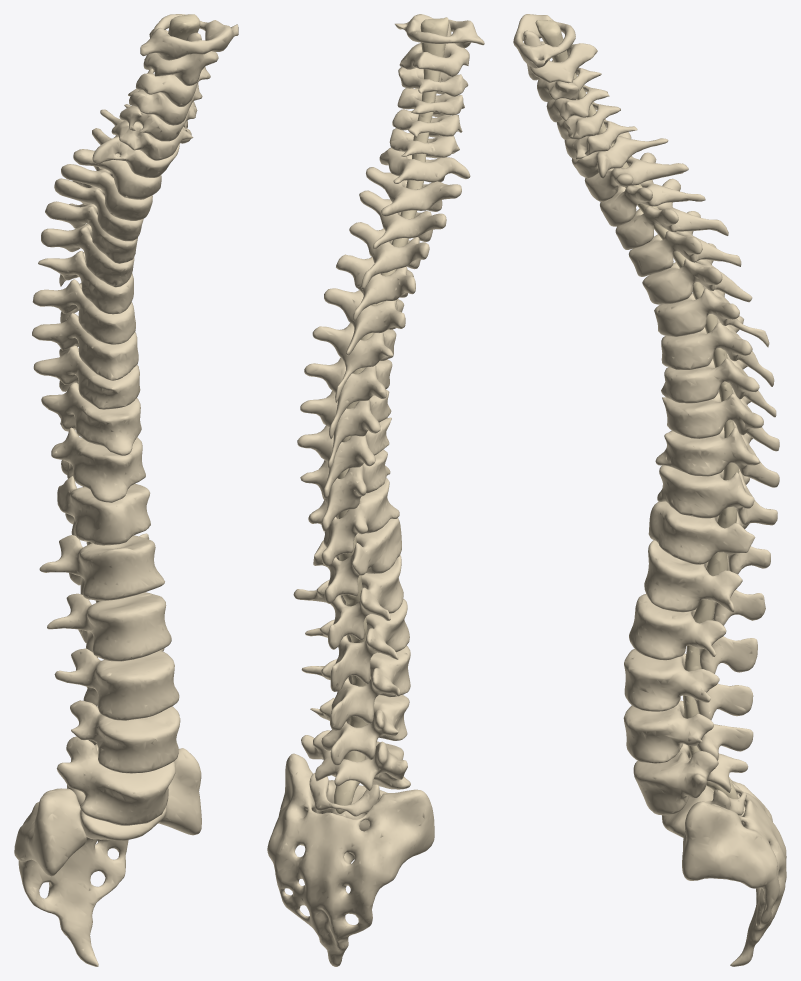
File: s1045_spine.glb
3 views of the same model, side by side, from view 1: azimuth 30°, elevation 25°; view 2: azimuth 150°, elevation 25°; view 3: azimuth 270°, elevation 25° (orthographic). The views are drawn at different scales.
Visible parts, largest first — view 1: sacrum, vertebrae_L3, vertebrae_L5, vertebrae_L2, vertebrae_L1, vertebrae_L4, vertebrae_T12, vertebrae_T11, vertebrae_T10, vertebrae_T8, vertebrae_T9, vertebrae_T7 (+15 smaller); view 2: sacrum, spinal_cord, vertebrae_L3, vertebrae_L1, vertebrae_L2, vertebrae_T12, vertebrae_L4, vertebrae_L5, vertebrae_T11, vertebrae_T10, vertebrae_T9, vertebrae_T7 (+15 smaller); view 3: sacrum, vertebrae_L2, vertebrae_L3, vertebrae_L1, vertebrae_L4, vertebrae_T12, spinal_cord, vertebrae_L5, vertebrae_T11, vertebrae_T10, vertebrae_T9, vertebrae_T8 (+15 smaller).
Part boxes in pixels (<box>): sacrum: <box>14,748,201,966</box>; vertebrae_L3: <box>54,648,179,720</box>; vertebrae_L5: <box>56,736,175,825</box>; vertebrae_L2: <box>47,592,171,661</box>; vertebrae_L1: <box>39,533,164,600</box>; vertebrae_L4: <box>70,700,180,773</box>; vertebrae_T12: <box>57,476,150,545</box>; vertebrae_T11: <box>51,427,145,502</box>; vertebrae_T10: <box>41,382,141,455</box>; vertebrae_T8: <box>32,313,138,380</box>; vertebrae_T9: <box>33,345,140,409</box>; vertebrae_T7: <box>32,279,135,344</box>; sacrum: <box>267,753,434,966</box>; spinal_cord: <box>334,17,448,813</box>; vertebrae_L3: <box>301,645,410,730</box>; vertebrae_L1: <box>293,555,403,649</box>; vertebrae_L2: <box>305,599,409,691</box>; vertebrae_T12: <box>313,518,401,603</box>; vertebrae_L4: <box>310,695,409,765</box>; vertebrae_L5: <box>301,730,410,791</box>; vertebrae_T11: <box>308,478,399,566</box>; vertebrae_T10: <box>300,449,390,531</box>; vertebrae_T9: <box>297,417,391,498</box>; vertebrae_T7: <box>304,357,392,439</box>; sacrum: <box>682,757,786,966</box>; vertebrae_L2: <box>629,594,757,673</box>; vertebrae_L3: <box>624,649,753,719</box>; vertebrae_L1: <box>644,540,765,625</box>; vertebrae_L4: <box>623,700,753,763</box>; vertebrae_T12: <box>648,501,770,574</box>; spinal_cord: <box>535,20,739,798</box>; vertebrae_L5: <box>633,743,748,815</box>; vertebrae_T11: <box>657,465,777,525</box>; vertebrae_T10: <box>655,421,779,487</box>; vertebrae_T9: <box>662,388,779,451</box>; vertebrae_T8: <box>661,354,776,417</box>.
Bounding box in the file's own units: 0.1199 × 0.7144 × 0.1885.
